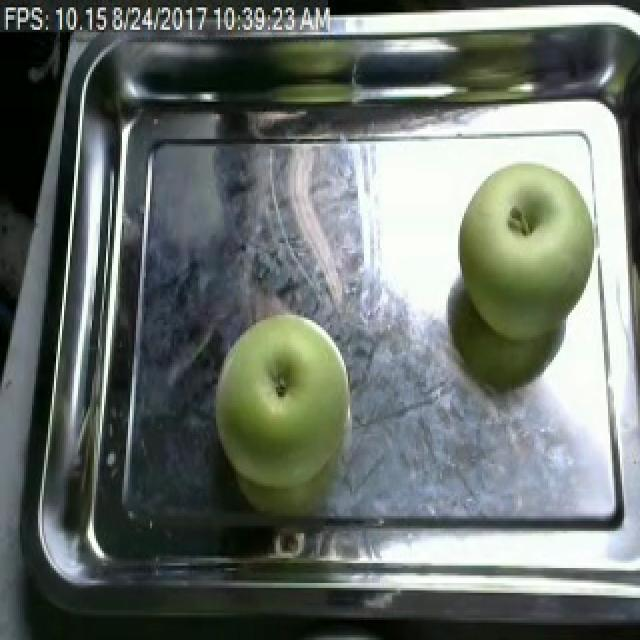50-_ripeness: (205, 304, 362, 492), (457, 158, 596, 342)
